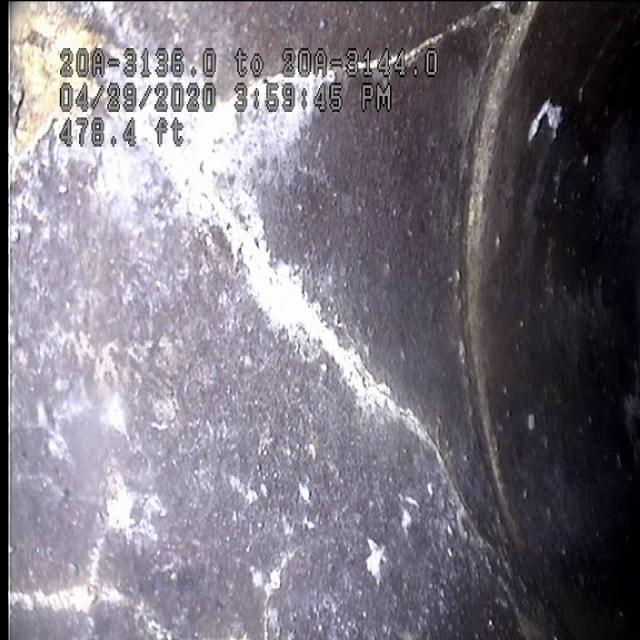Crack: (203, 153, 501, 556)
